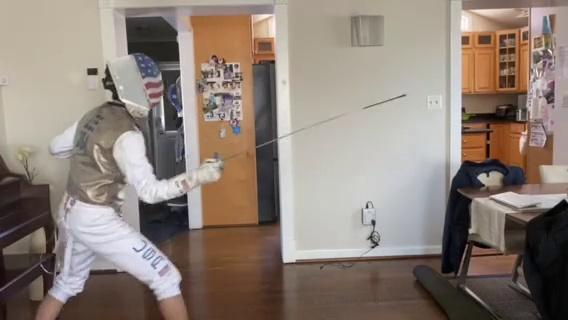blade-guard: (213, 150, 227, 173)
blade-tip: (361, 94, 411, 111)
fencing-blade: (207, 92, 413, 178)
